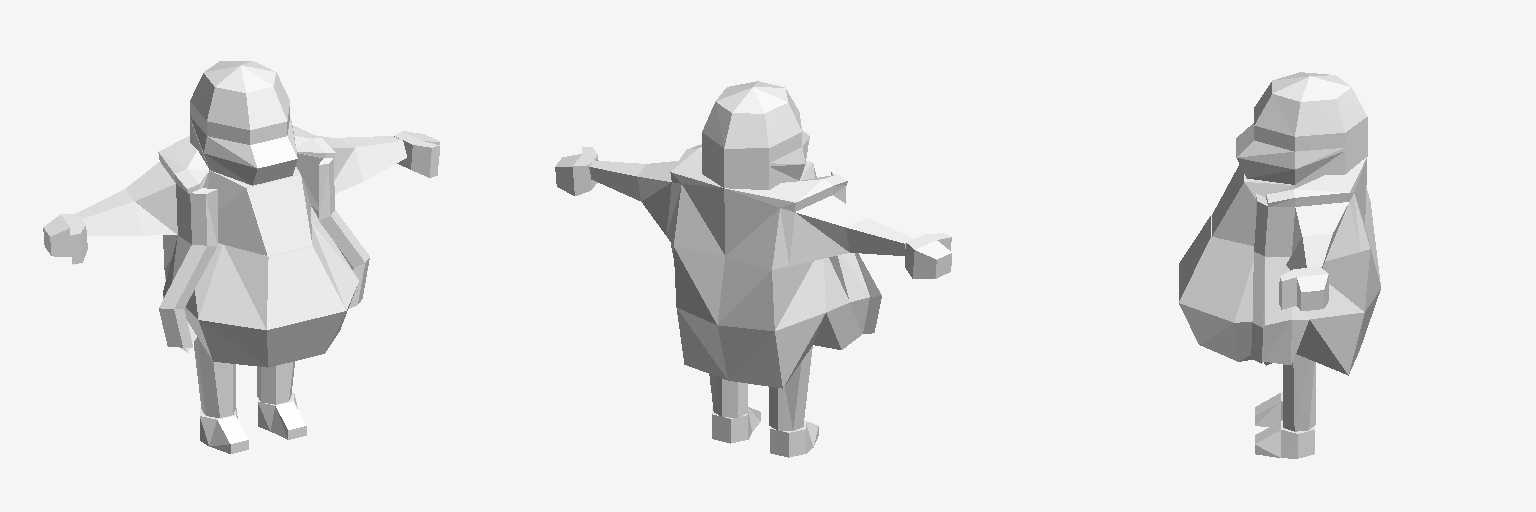
Rendered from jorgin.obj.
3 renders of one model, left to right at view 1: azimuth 30°, elevation 25°; view 2: azimuth 150°, elevation 25°; view 3: azimuth 270°, elevation 25°, orthographic.
Parts seen in each view (by area): view 1: obj4, obj3, obj2, obj1, obj7, obj5, obj6; view 2: obj4, obj1, obj2, obj7, obj5, obj6; view 3: obj4, obj3, obj2, obj1, obj6, obj7, obj5.
Boxes of the visible parts, <box> form: obj4: <box>78,125,406,352</box>; obj3: <box>184,207,358,367</box>; obj2: <box>190,101,297,185</box>; obj1: <box>190,61,289,129</box>; obj7: <box>194,337,294,417</box>; obj5: <box>43,131,439,264</box>; obj6: <box>200,392,306,453</box>; obj4: <box>589,144,913,388</box>; obj1: <box>702,81,801,148</box>; obj2: <box>702,130,809,189</box>; obj7: <box>709,346,812,430</box>; obj5: <box>555,147,951,278</box>; obj6: <box>712,406,818,457</box>; obj4: <box>1212,156,1380,375</box>; obj3: <box>1179,215,1308,361</box>; obj2: <box>1236,117,1367,184</box>; obj1: <box>1254,72,1367,136</box>; obj6: <box>1255,392,1314,458</box>; obj7: <box>1283,354,1315,431</box>; obj5: <box>1279,267,1328,310</box>.
Size of the model in its own units: 5.16 by 4.54 by 2.32.